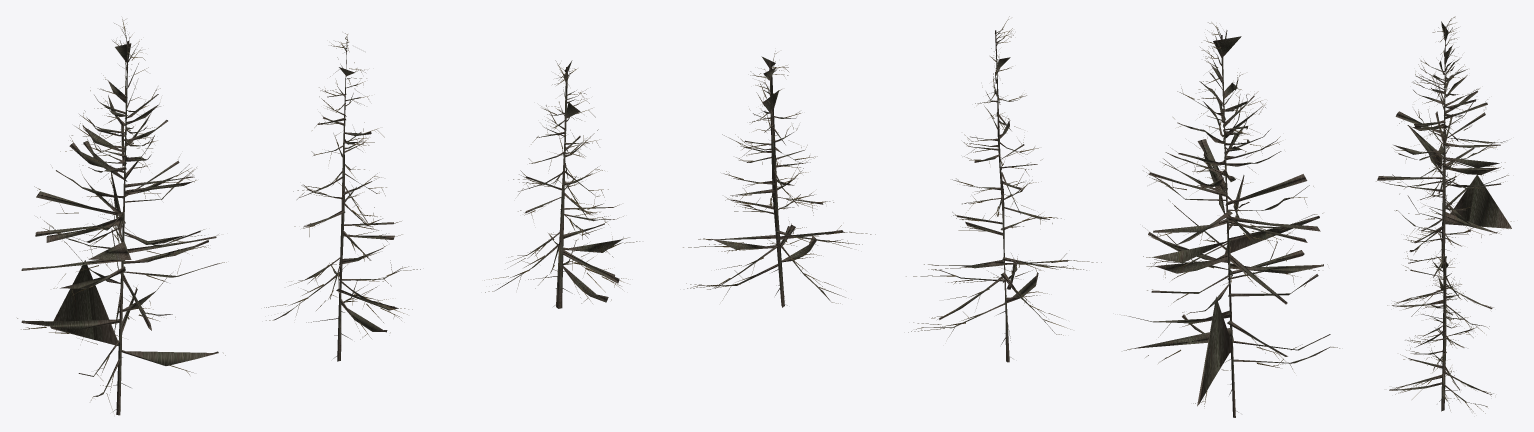
File: fir_sapling.glb
The picture shows the model from 3 angles, left to right: view 1: azimuth 30°, elevation 25°; view 2: azimuth 150°, elevation 25°; view 3: azimuth 270°, elevation 25°; orthographic projection. The views are drawn at different scales.
Parts seen in each view (by area): view 1: fir_sapling_medium_a_LOD0, fir_sapling_medium_c_LOD0, fir_sapling_medium_b_LOD0; view 2: fir_sapling_medium_a_LOD0, fir_sapling_medium_c_LOD0, fir_sapling_medium_b_LOD0; view 3: fir_sapling_medium_a_LOD0, fir_sapling_medium_c_LOD0, fir_sapling_medium_b_LOD0.
Boxes of the visible parts, <box> form: fir_sapling_medium_a_LOD0: <box>17,19,226,415</box>; fir_sapling_medium_c_LOD0: <box>484,60,639,308</box>; fir_sapling_medium_b_LOD0: <box>264,33,420,361</box>; fir_sapling_medium_a_LOD0: <box>1124,22,1339,417</box>; fir_sapling_medium_c_LOD0: <box>683,51,875,307</box>; fir_sapling_medium_b_LOD0: <box>906,16,1101,362</box>; fir_sapling_medium_a_LOD0: <box>1376,16,1511,268</box>; fir_sapling_medium_c_LOD0: <box>1389,256,1493,413</box>; fir_sapling_medium_b_LOD0: <box>1387,124,1493,334</box>.
Size of the model in its own units: 14.01 by 8.47 by 4.38.
3 materials, 3 textured.
